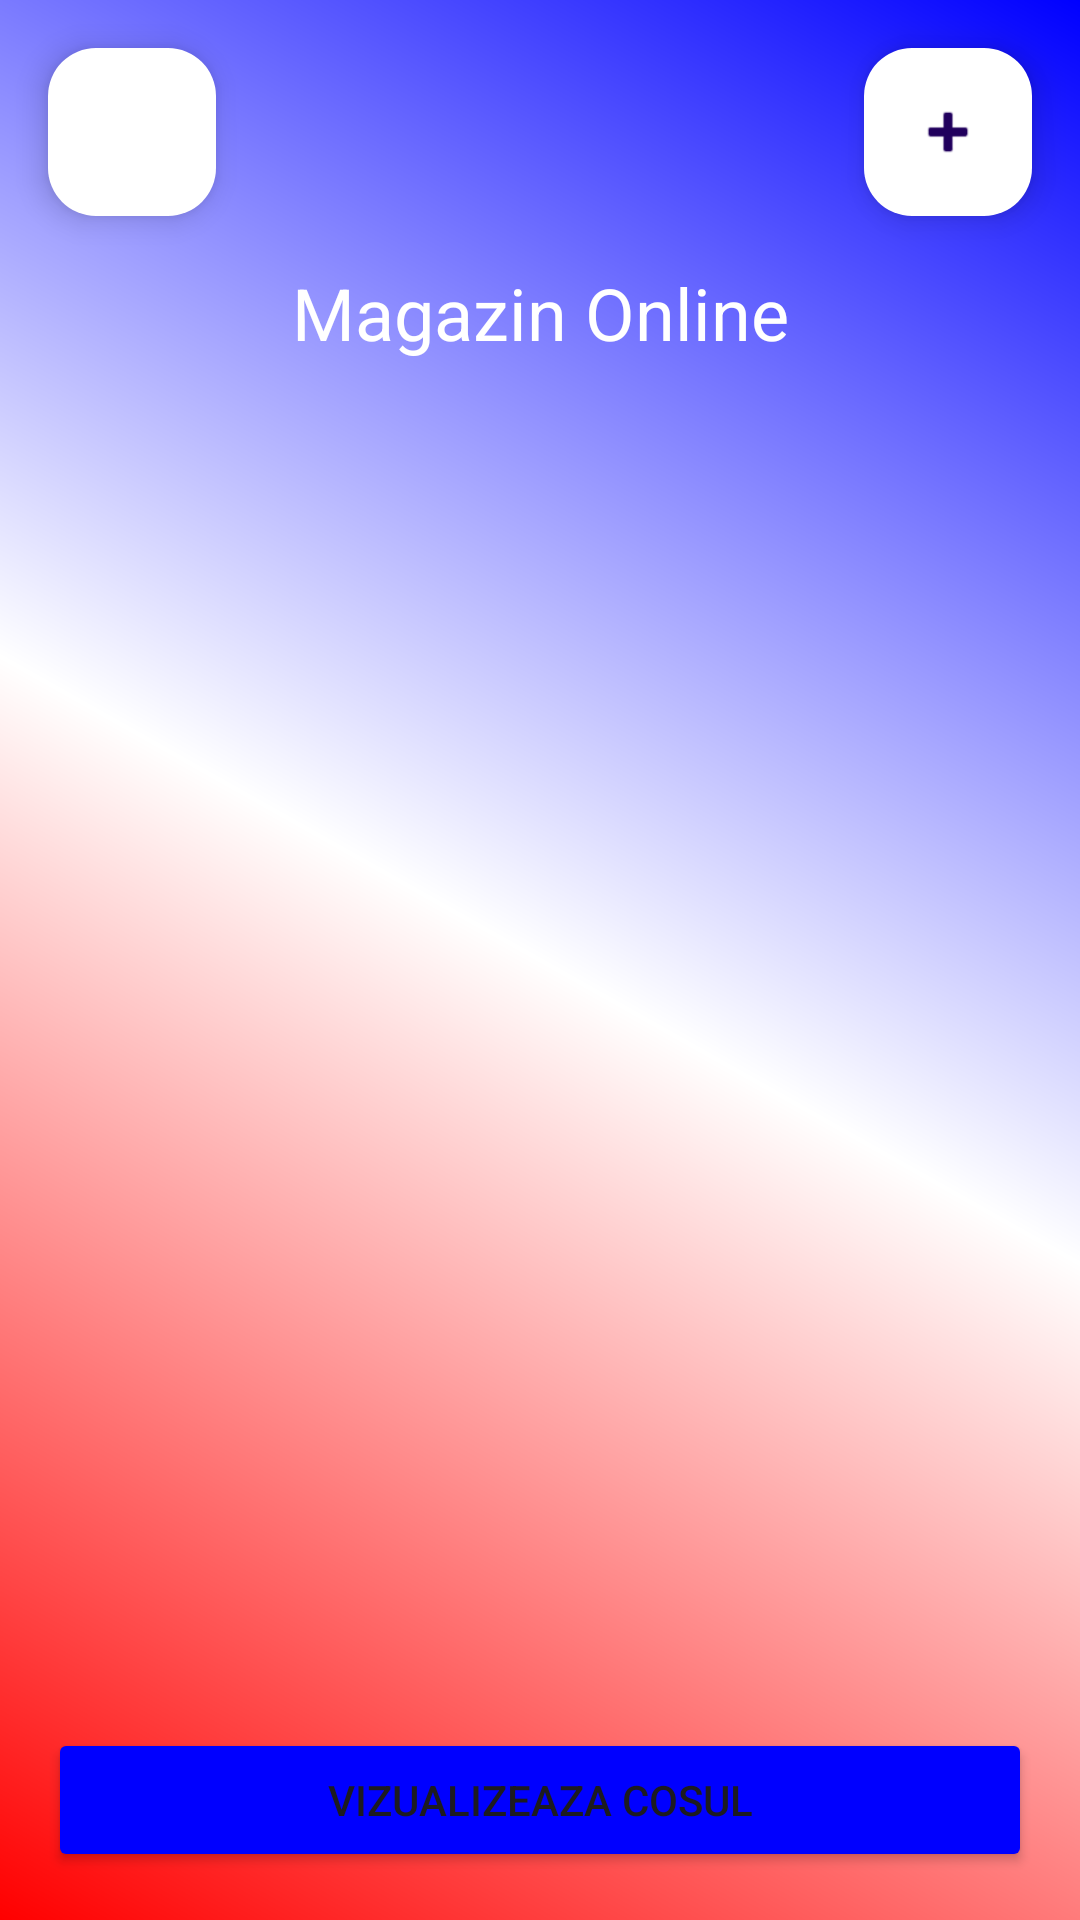

Where to tap for icons on this 1080px×1920px app screen, as point (x, y):
Add: point (948, 132)
